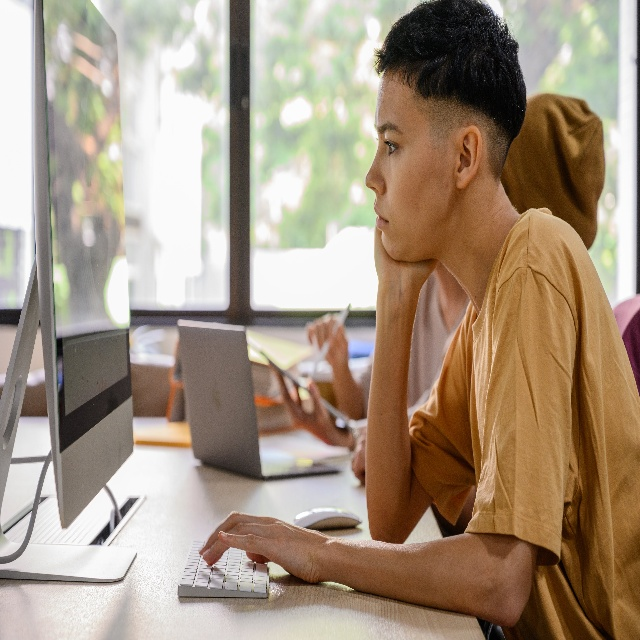Sin_guantes: (198, 501, 326, 590), (269, 360, 348, 445), (374, 213, 437, 305), (303, 313, 350, 367)
